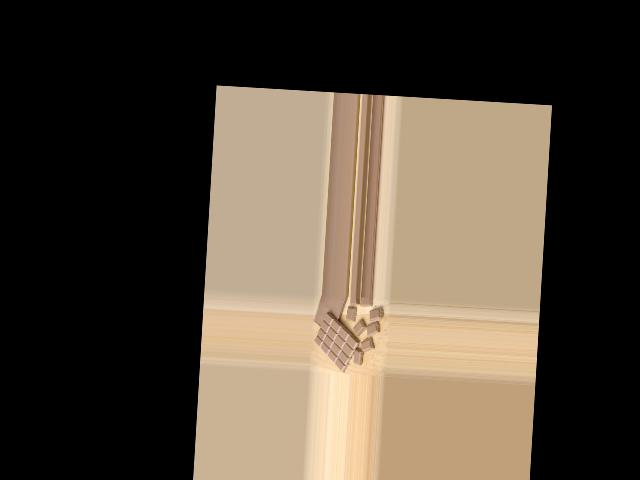chocolate: (312, 311, 363, 371)
